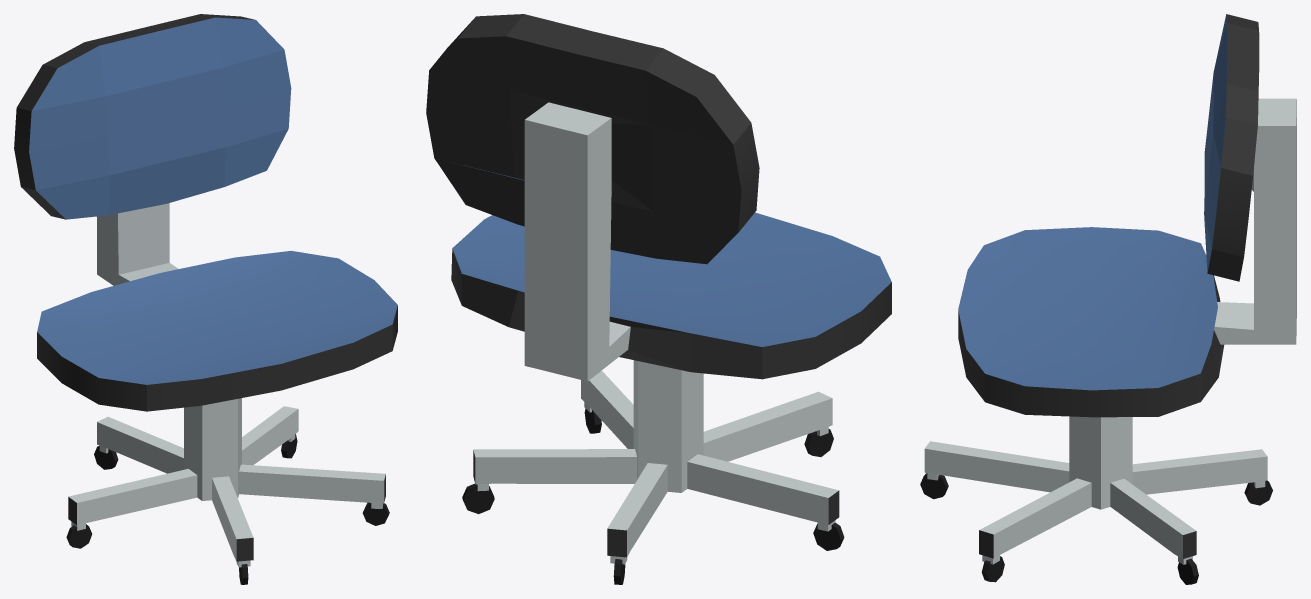
Rendered from isu_hidaka.fbx.
3 views of the same model, side by side, from view 1: azimuth 30°, elevation 25°; view 2: azimuth 150°, elevation 25°; view 3: azimuth 270°, elevation 25° (orthographic). The views are drawn at different scales.
Visible parts, largest first — view 1: polySurface2; view 2: polySurface2; view 3: polySurface2.
Part boxes in pixels (x1,y1,x2,y2): polySurface2: [14, 14, 397, 584]; polySurface2: [426, 14, 891, 584]; polySurface2: [920, 14, 1296, 584].
Bounding box in the file's own units: 2.85 × 3.84 × 2.78.
